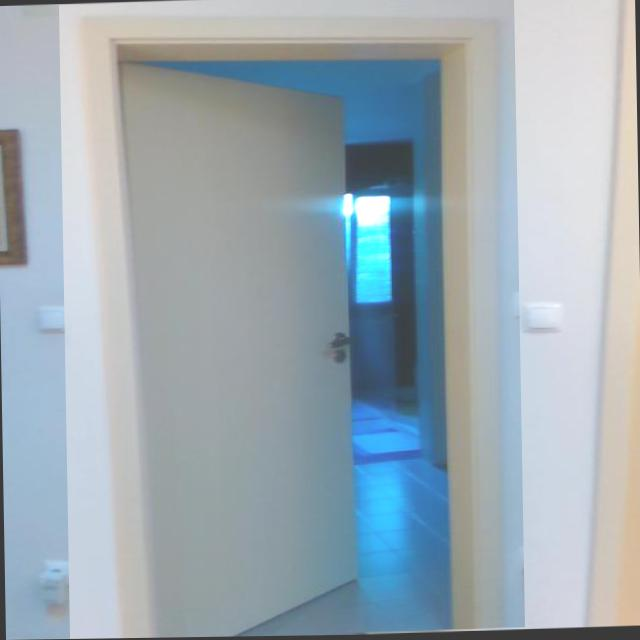semi-open: (58, 0, 526, 638)
